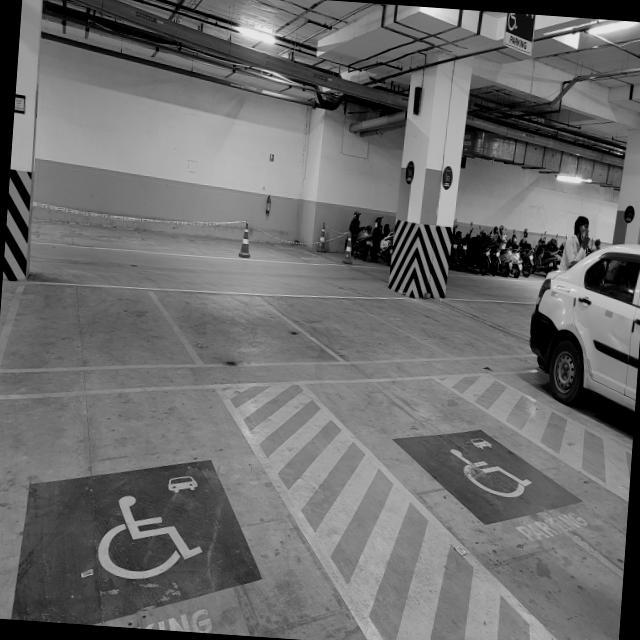free: (140, 270, 360, 372), (10, 276, 208, 384), (252, 268, 464, 367)
